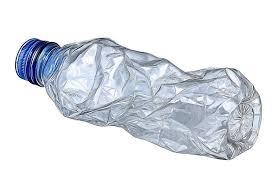Plastic: (10, 18, 268, 164)
